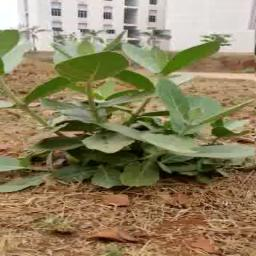CALOTROPIS: (0, 29, 255, 187)
